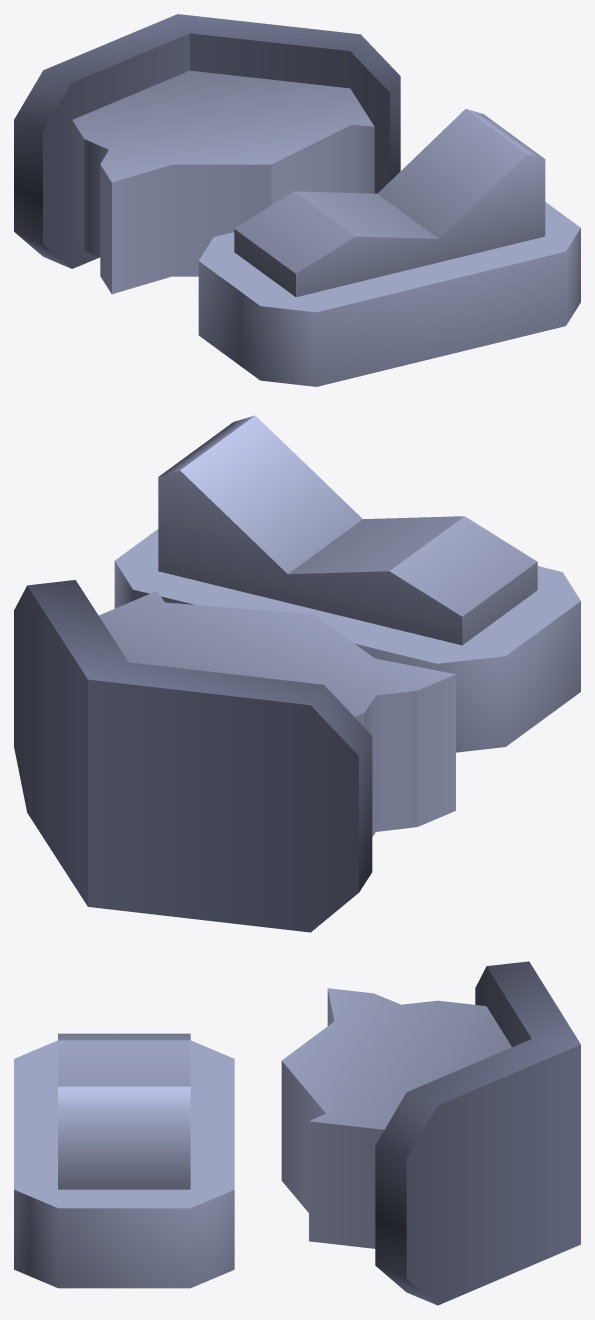
The model's file is gravestone-debris.glb.
3 views of the same model, one above another, from view 1: azimuth 30°, elevation 25°; view 2: azimuth 150°, elevation 25°; view 3: azimuth 270°, elevation 25° (orthographic). The views are drawn at different scales.
Visible parts, largest first — view 1: gravestone-debris; view 2: gravestone-debris; view 3: gravestone-debris.
Part boxes in pixels (x1=…): gravestone-debris: x1=14, y1=14, x2=580, y2=386; gravestone-debris: x1=14, y1=415, x2=580, y2=932; gravestone-debris: x1=14, y1=961, x2=580, y2=1305.
Size of the model in its own units: 0.4952 by 0.2667 by 0.6419.
1 material, 1 textured.
